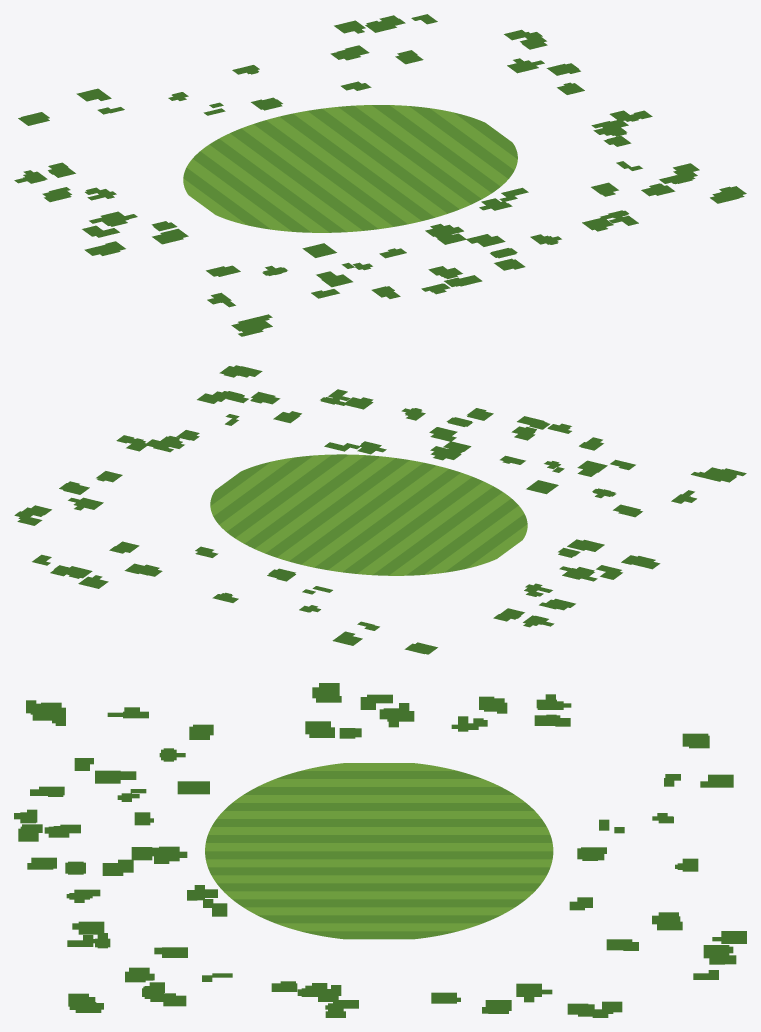
The model's file is oval1_grass.glb.
The picture shows the model from 3 angles, top to bottom: view 1: azimuth 30°, elevation 25°; view 2: azimuth 150°, elevation 25°; view 3: azimuth 270°, elevation 25°; orthographic projection. The views are drawn at different scales.
Visible parts, largest first — view 1: Turf_Oval, Grass_Patches; view 2: Turf_Oval, Grass_Patches; view 3: Turf_Oval, Grass_Patches.
Boxes of the visible parts, x1=… form: Turf_Oval: x1=183, y1=105, x2=517, y2=232; Grass_Patches: x1=14, y1=14, x2=746, y2=336; Turf_Oval: x1=210, y1=454, x2=527, y2=575; Grass_Patches: x1=14, y1=365, x2=746, y2=654; Turf_Oval: x1=205, y1=763, x2=553, y2=939; Grass_Patches: x1=14, y1=683, x2=746, y2=1017.
Size of what is drawn, in the model's own units: 307 by 0.02 by 284.
